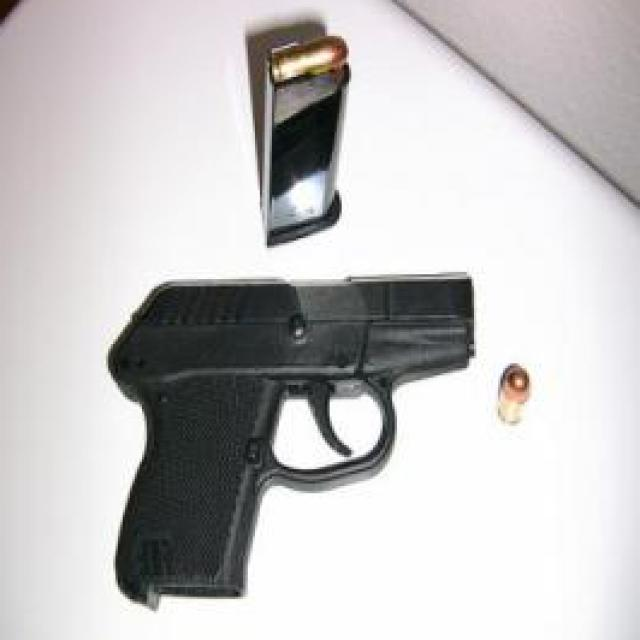pistol: (106, 272, 471, 610)
